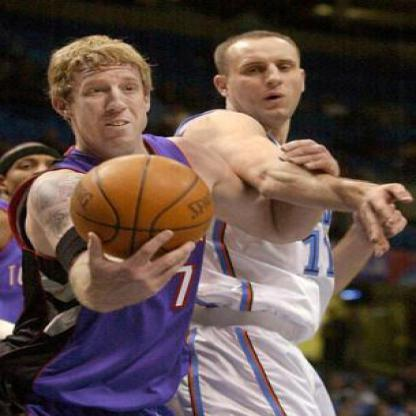face: (66, 44, 150, 149), (228, 35, 311, 123), (5, 144, 67, 205)
